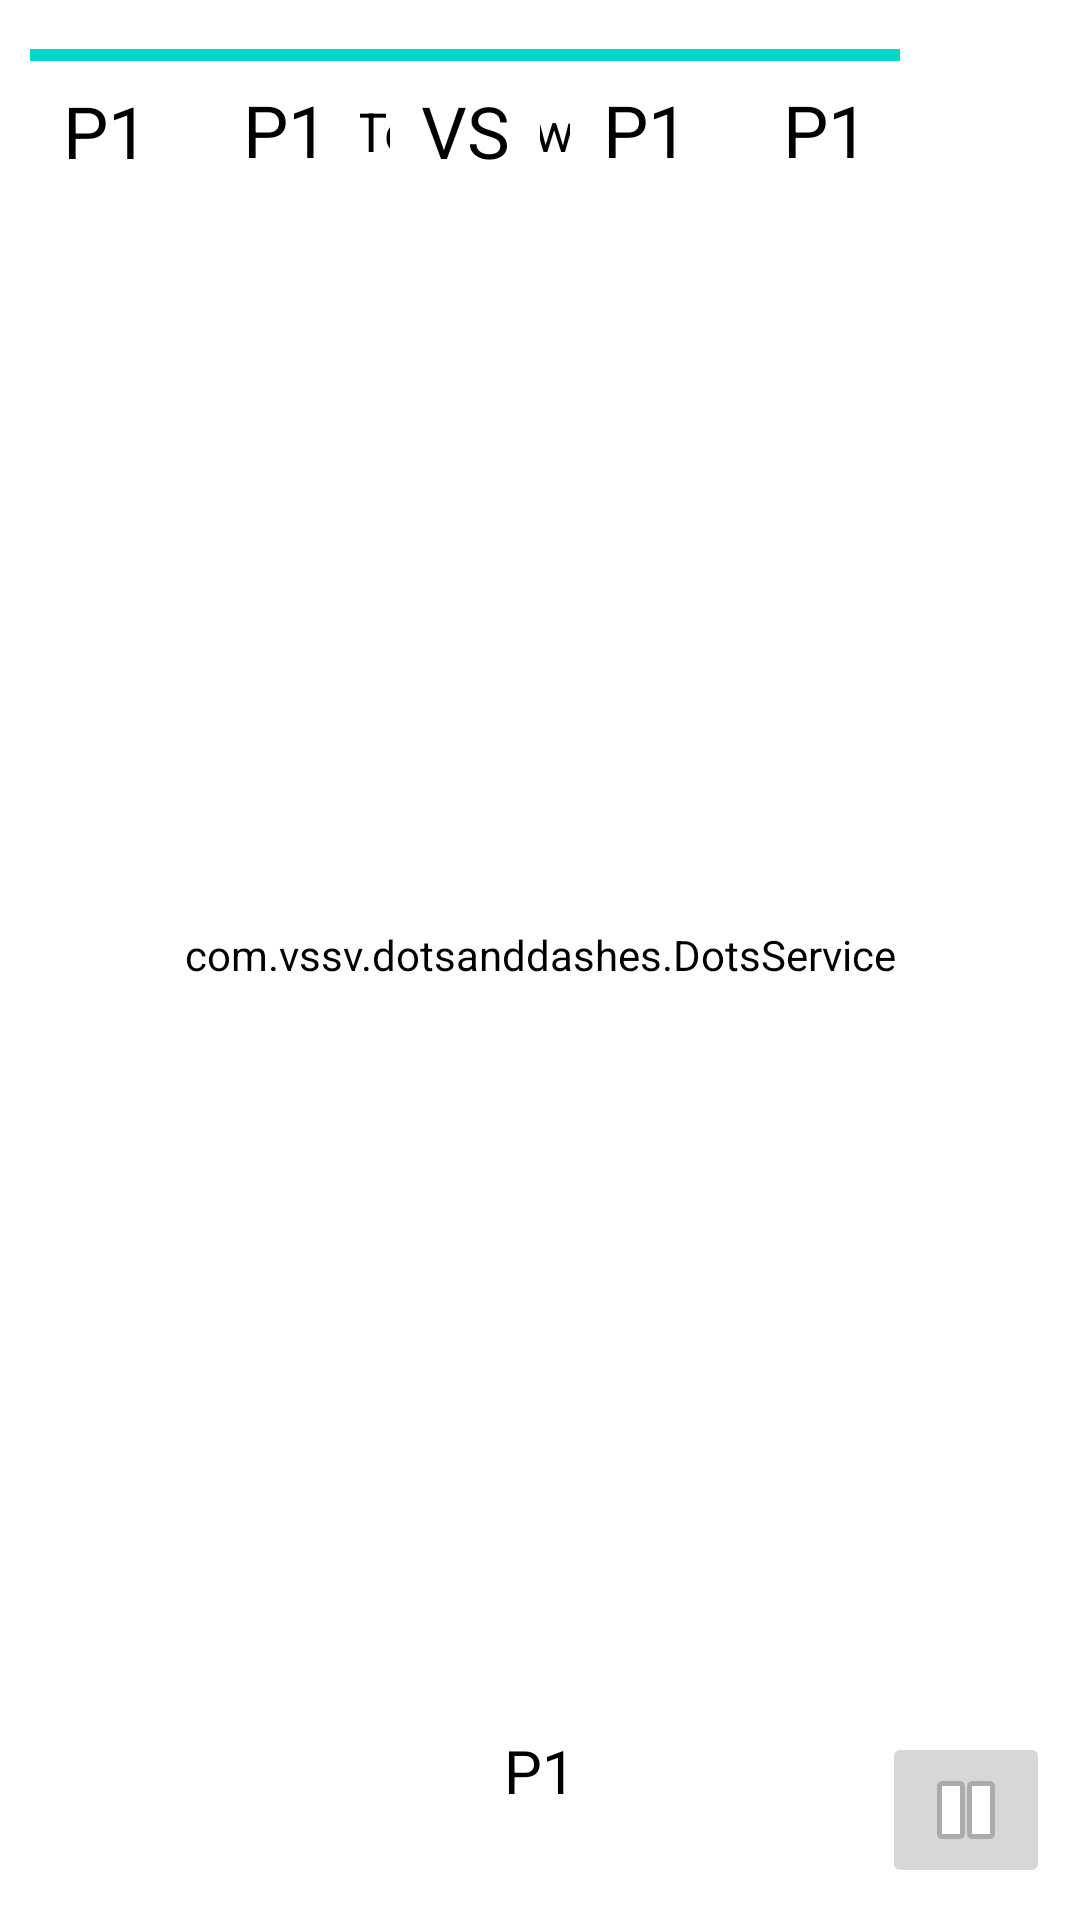

Locate icon controls on the screen. Image size 1080 x 1920, boxes as detection(x1, y1, x2, y2).
pause: detection(894, 1750, 1038, 1870)
